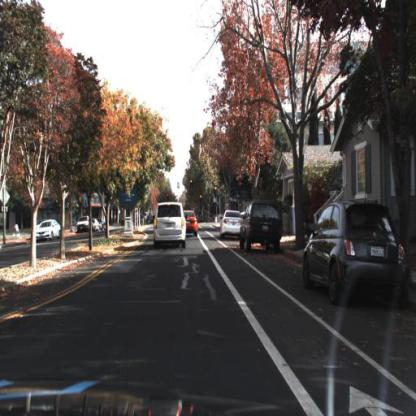car: (300, 194, 416, 313), (238, 198, 286, 256), (151, 197, 190, 251), (218, 207, 244, 242), (35, 218, 64, 248), (183, 204, 201, 240), (74, 212, 90, 236), (89, 215, 101, 236)
trafficLight-Red: (190, 179, 194, 191), (200, 195, 204, 207), (215, 186, 219, 198)
trafficLight-RedLeft: (167, 191, 171, 206)
